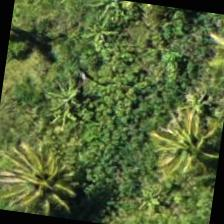Kelapa_Sawit: (12, 61, 114, 163), (18, 47, 120, 149), (126, 93, 223, 195), (5, 138, 104, 222)
